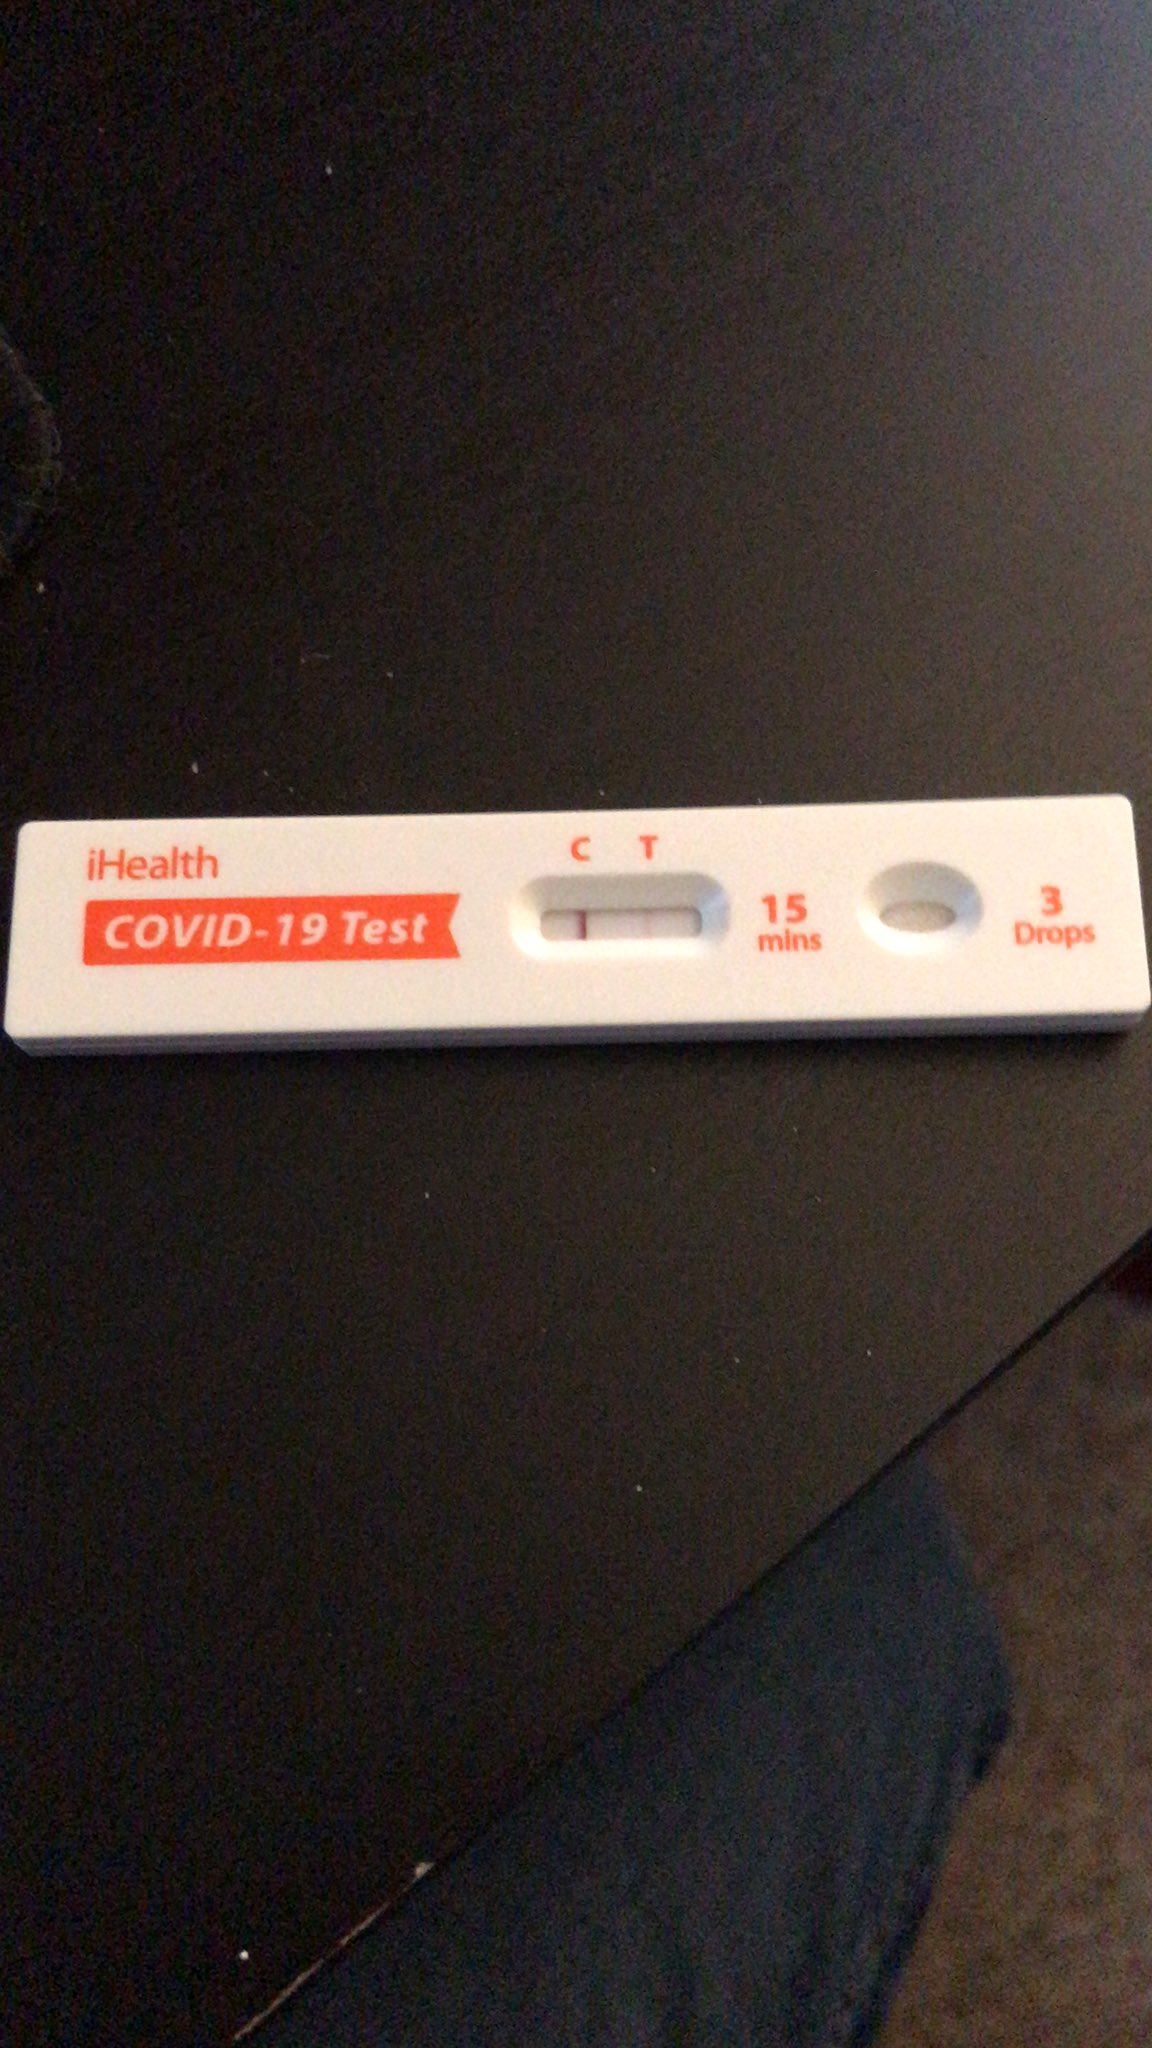positive: (523, 873, 733, 962)
